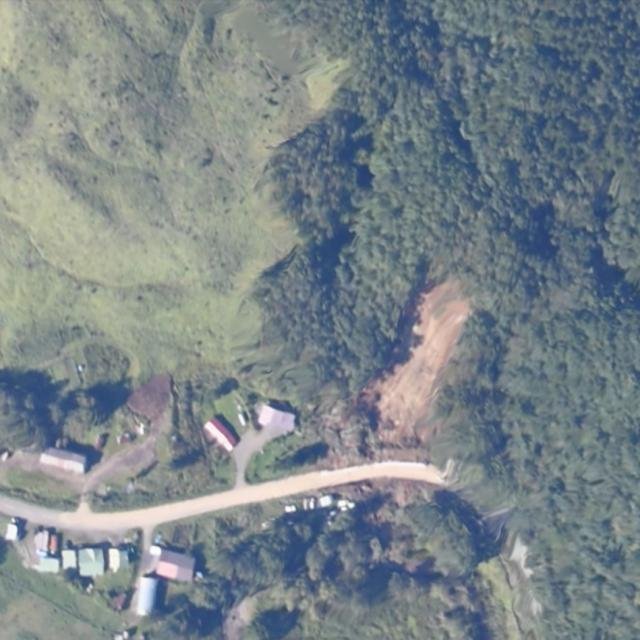landslide: (358, 279, 471, 447)
